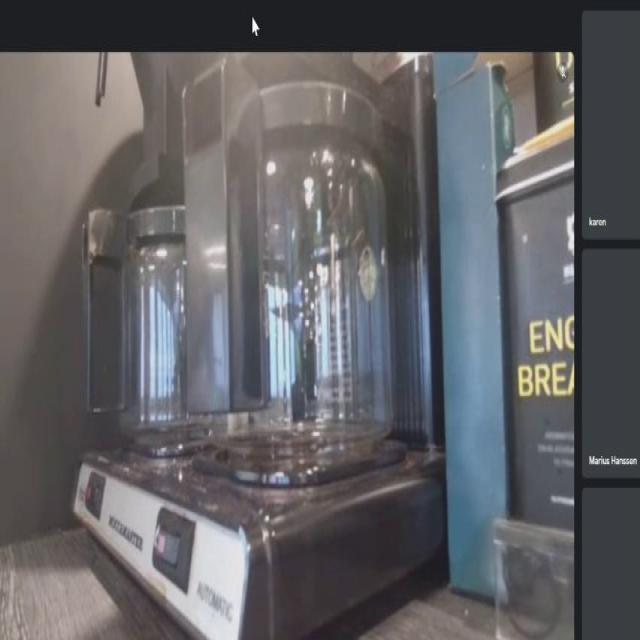nocoffee: (179, 39, 410, 519), (82, 172, 250, 502)
